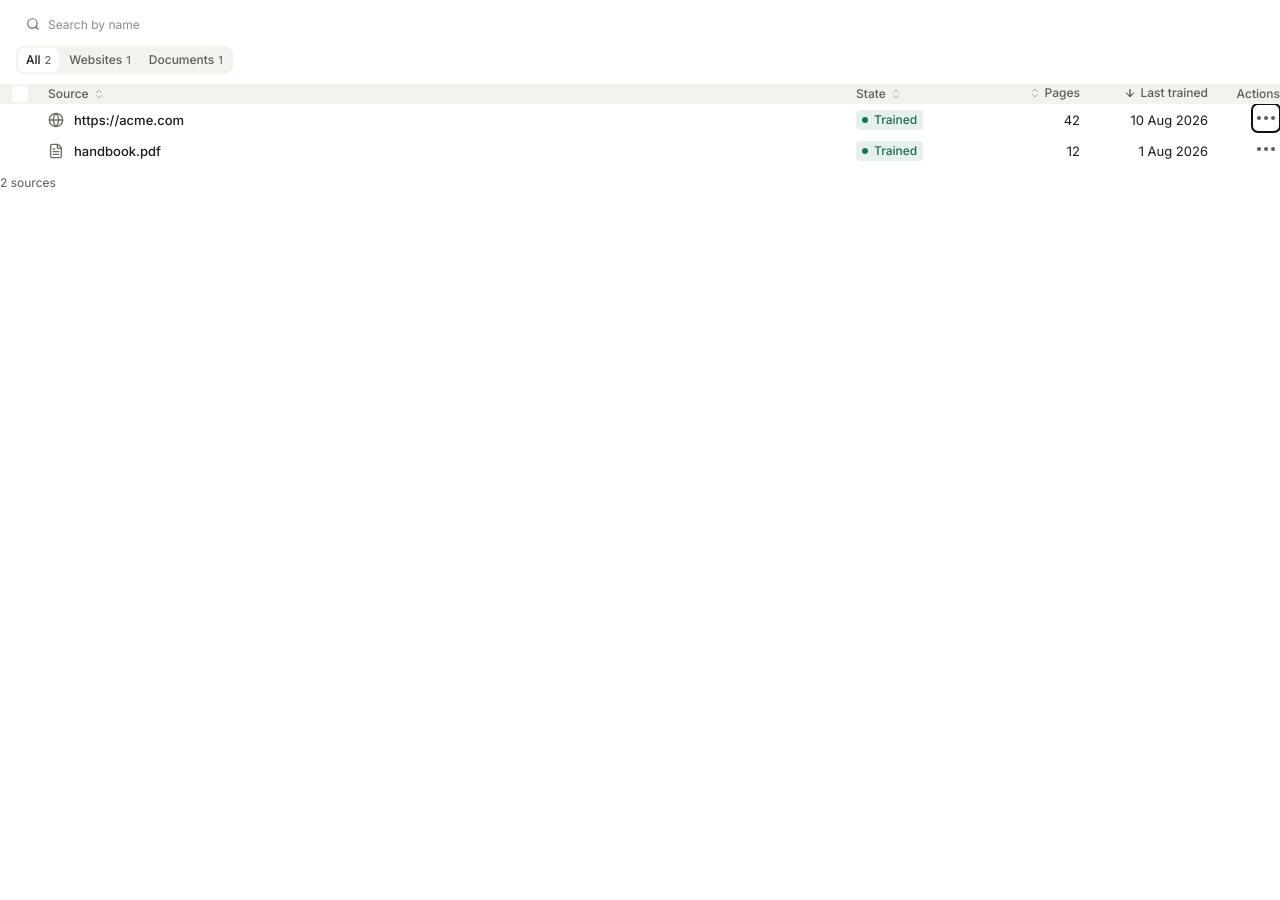
it: SourcesTable — deleting indexed knowledge › is reachable by keyboard and states what is destroyed before it happens
This screenshot has width=1280, height=900.
Press Enter
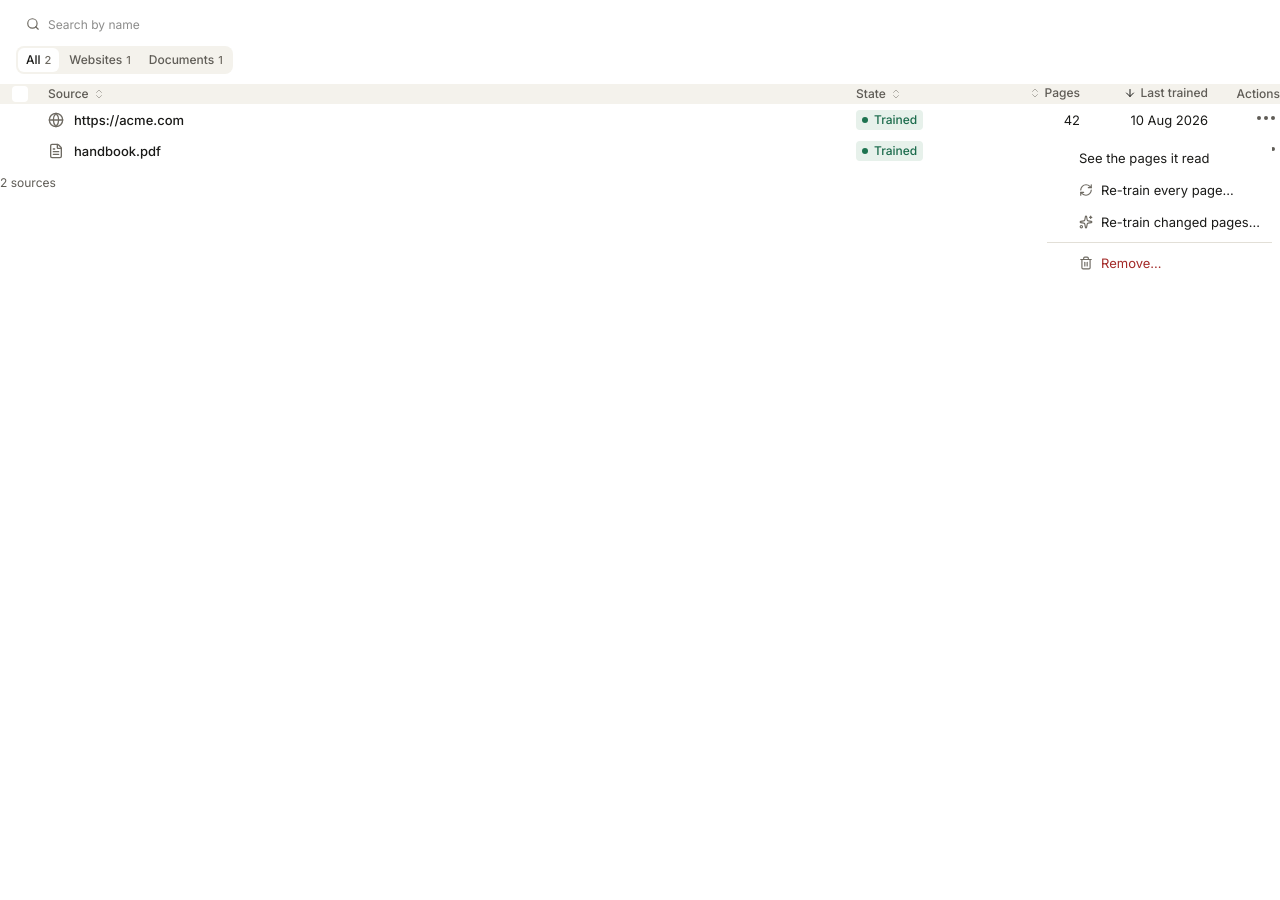
Click the menu item "Remove…".
click(1120, 263)  # box [1079,255,1162,271]
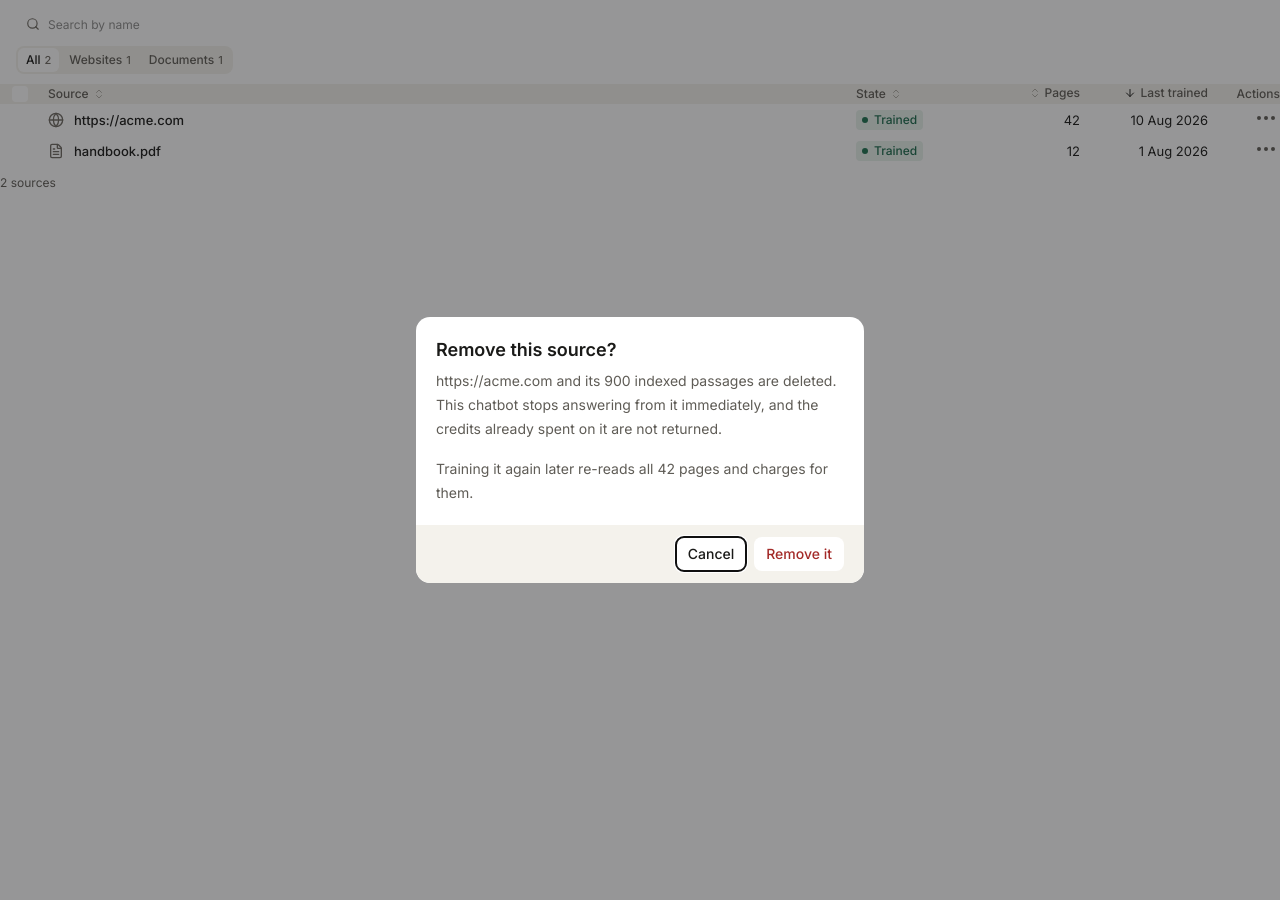
Expected: the dialog shows "900", [604,372,631,389]
Expected: the dialog shows "indexed passage", [436,372,836,437]
Expected: the dialog shows "credits already spent on it are not returned", [436,372,836,437]
